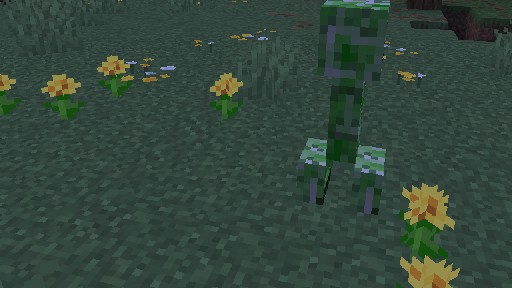creeper: (295, 0, 390, 215)
